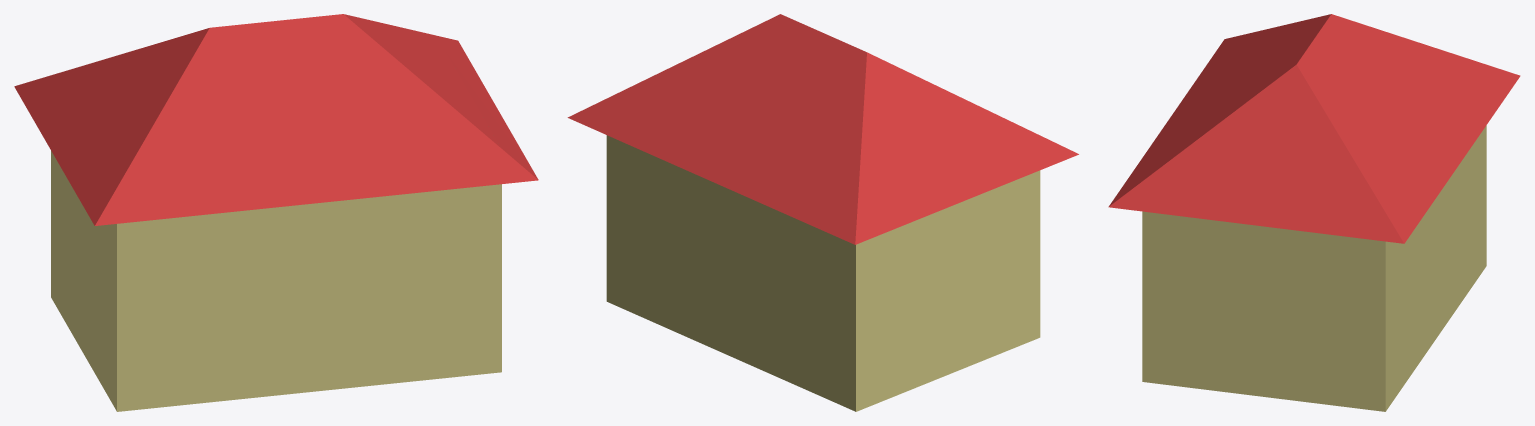
3 views of the same model, side by side, from view 1: azimuth 30°, elevation 25°; view 2: azimuth 150°, elevation 25°; view 3: azimuth 270°, elevation 25° (orthographic). The views are drawn at different scales.
Parts seen in each view (by area): view 1: group_5, group_3, group_4; view 2: group_5, group_3, group_4; view 3: group_5, group_3, group_4.
Boxes of the visible parts, box(x1,y1,x2,y2) form: group_5: box(51, 151, 501, 411); group_3: box(51, 14, 538, 225); group_4: box(14, 50, 538, 225); group_5: box(606, 135, 1040, 411); group_3: box(568, 14, 1038, 244); group_4: box(569, 99, 1078, 244); group_5: box(1142, 125, 1486, 411); group_3: box(1110, 14, 1520, 243); group_4: box(1108, 34, 1509, 242).
Bounding box in the file's own units: 17.54 × 14.94 × 11.38.
